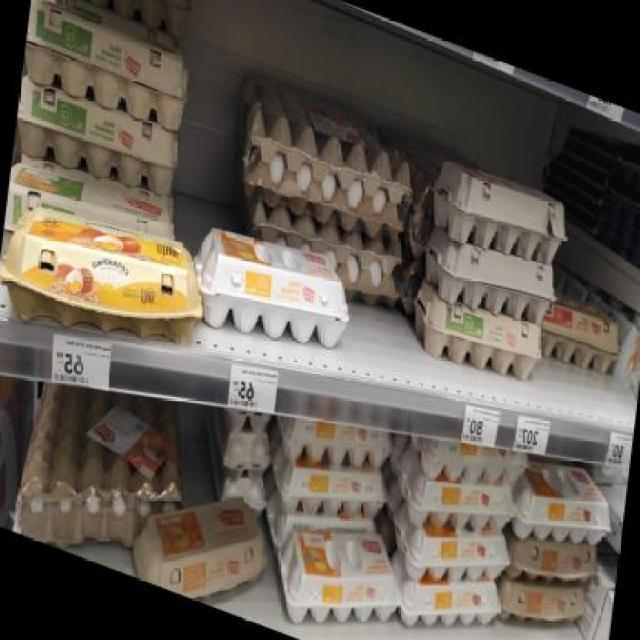Egg: (0, 179, 206, 383), (191, 210, 355, 374), (21, 0, 197, 140), (14, 71, 185, 211), (132, 468, 270, 624), (274, 497, 406, 639), (409, 278, 543, 394), (394, 449, 516, 556), (389, 500, 511, 607), (270, 435, 392, 542), (46, 0, 202, 46), (223, 420, 274, 477), (218, 462, 269, 519)
